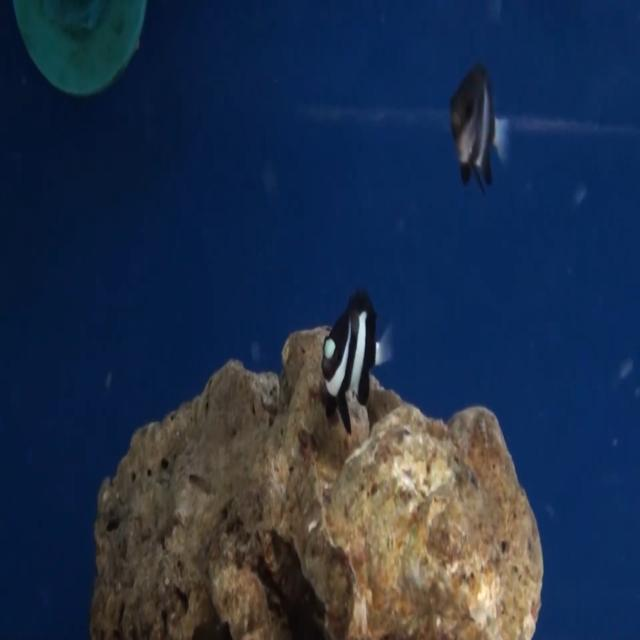ThreeStripedDamselfish: (320, 283, 395, 435), (445, 56, 512, 195)
